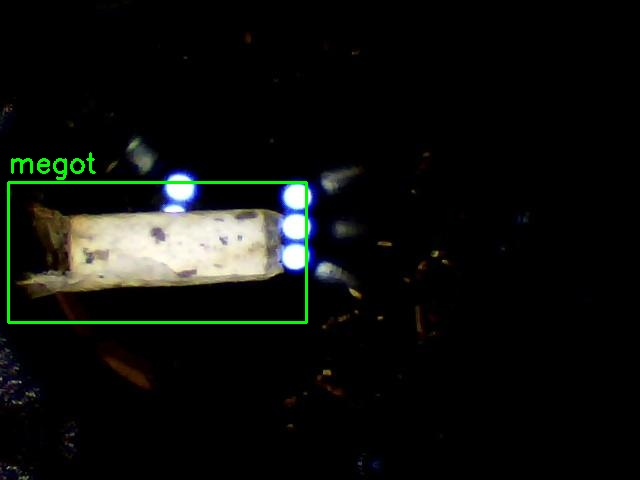megot: (8, 182, 306, 322)
